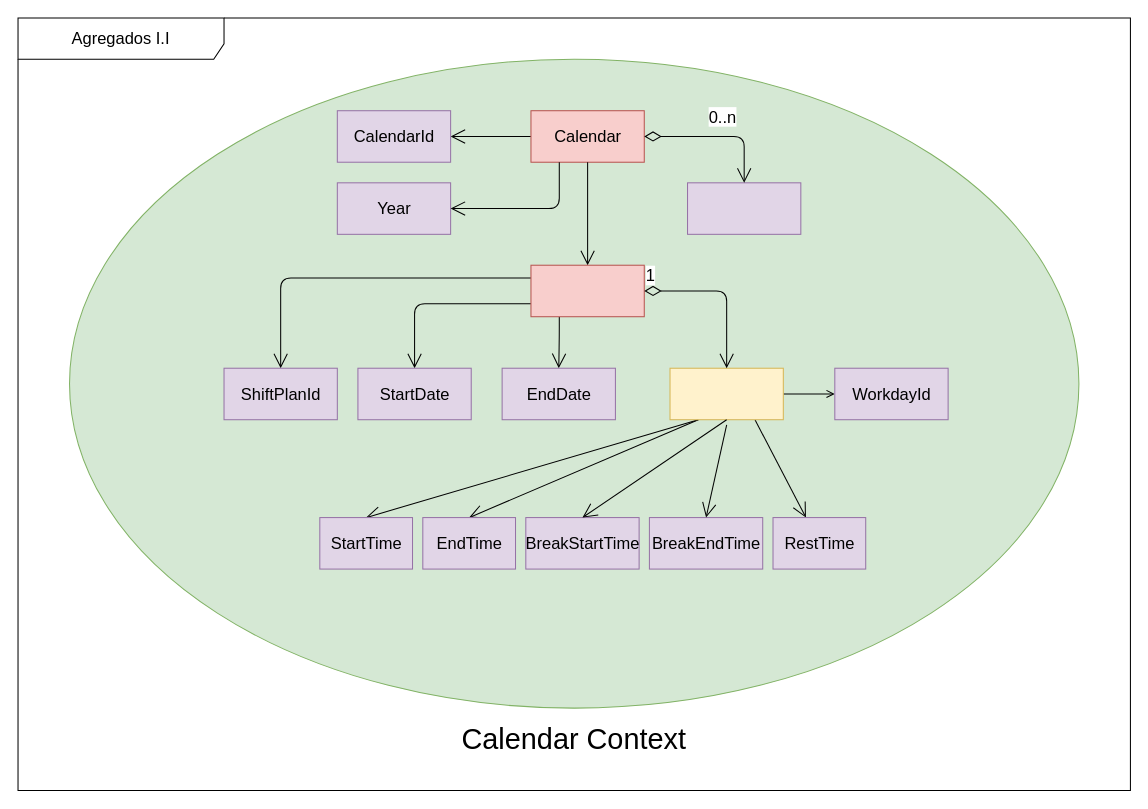
This 1148x809 diagram has some shape labels left out. Each missing label, with the centre of its shape:
"Holiday" goes at pixel 743 208.
"ShiftPlan" goes at pixel 587 290.
"Workday" goes at pixel 726 393.
